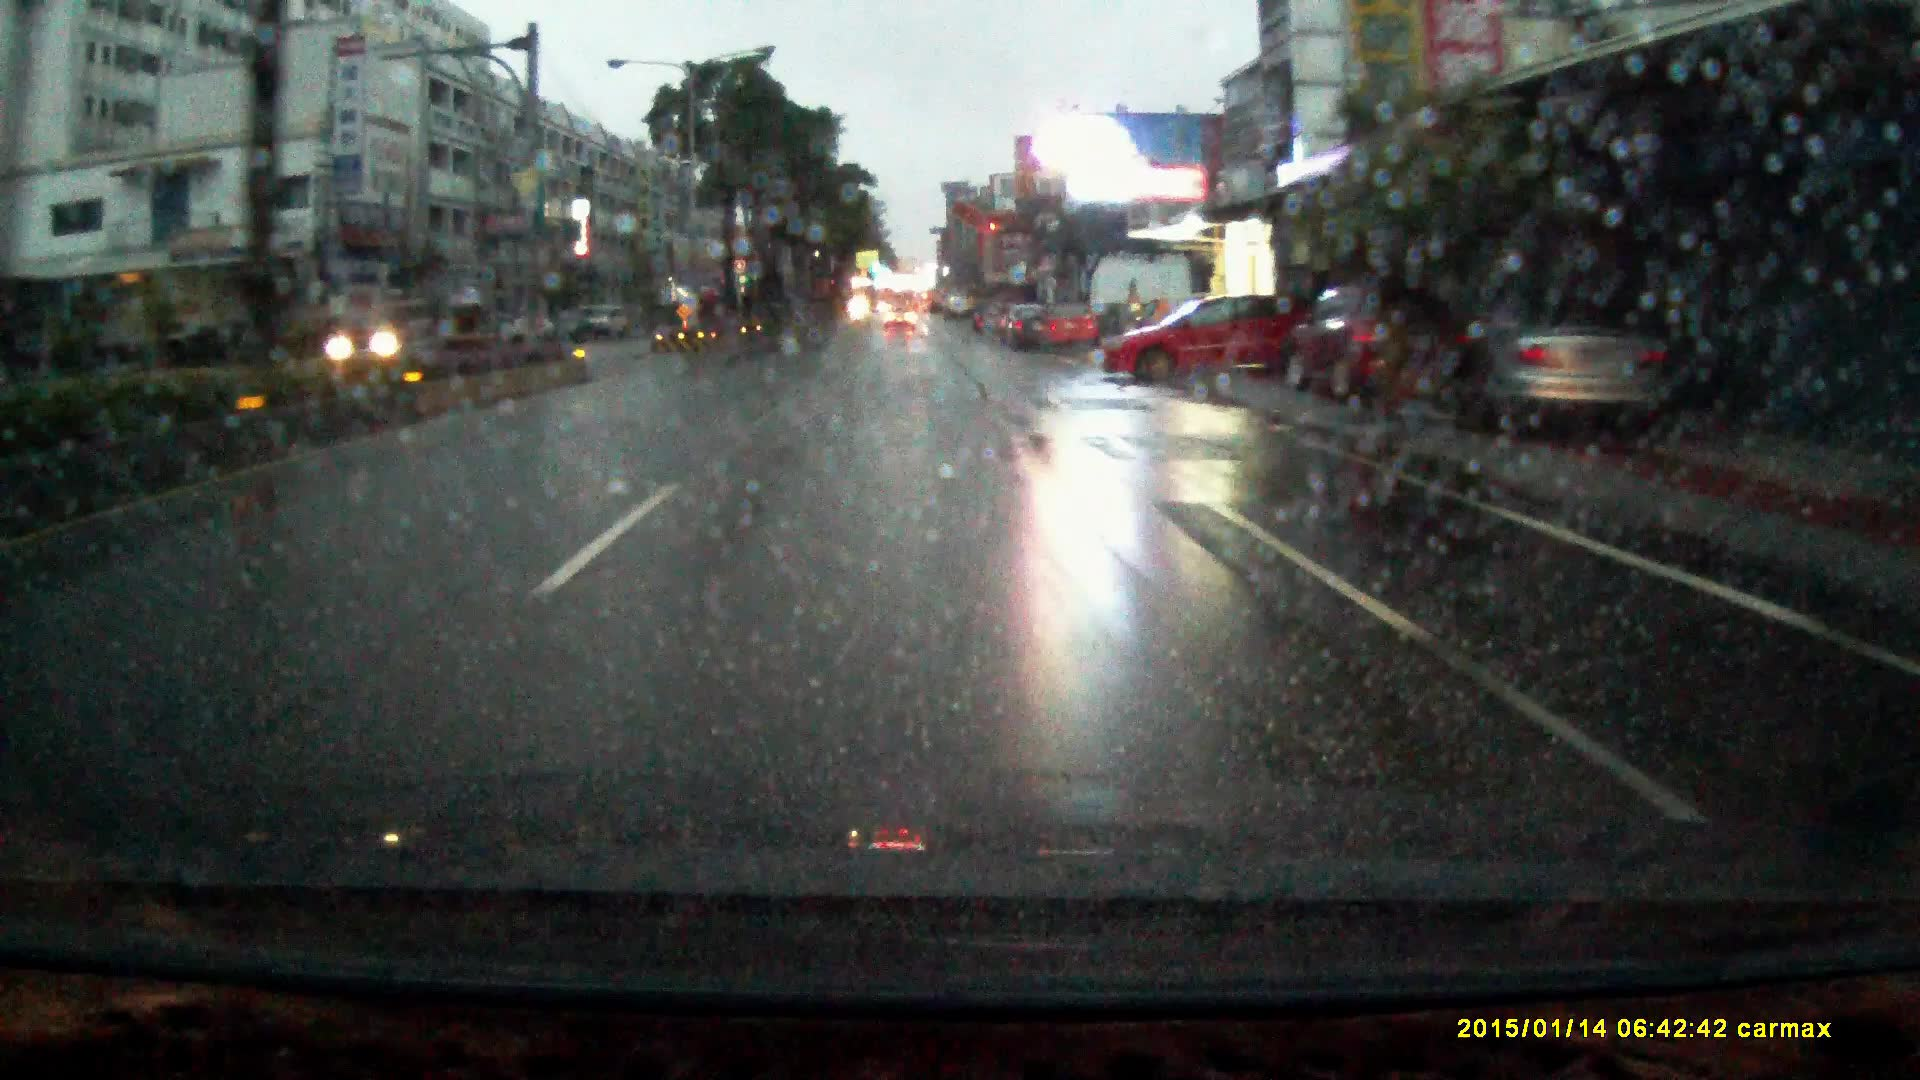vehicle: (1452, 293, 1677, 443), (1284, 276, 1476, 414), (1095, 289, 1305, 380), (316, 298, 436, 360), (1026, 298, 1098, 349), (997, 301, 1052, 347), (583, 301, 632, 338), (885, 305, 916, 334)
